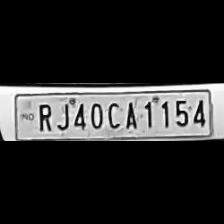0: (86, 100, 104, 128)
1: (140, 97, 156, 129), (156, 97, 172, 128)
4: (190, 96, 208, 127), (70, 98, 86, 130)
5: (172, 96, 188, 128)
A: (122, 98, 140, 130)
C: (104, 100, 122, 128)
J: (55, 99, 70, 130)
R: (33, 100, 53, 132)
